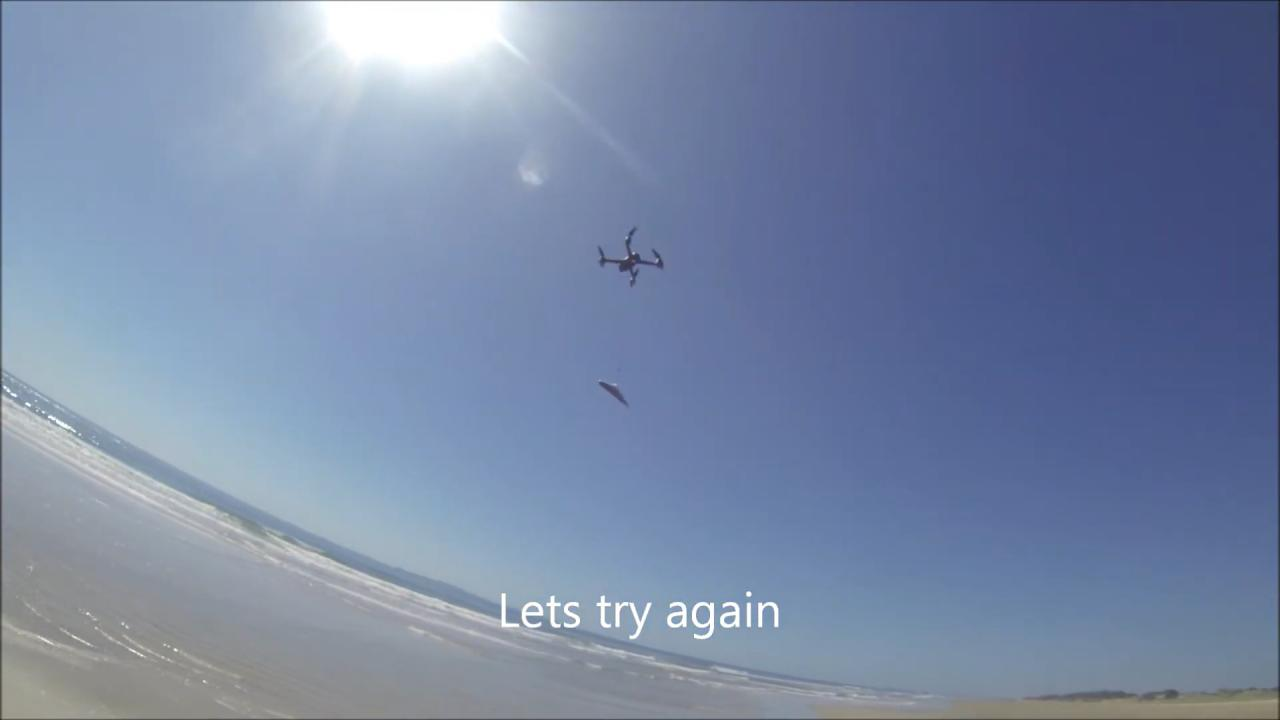Drone: (587, 220, 673, 297)
